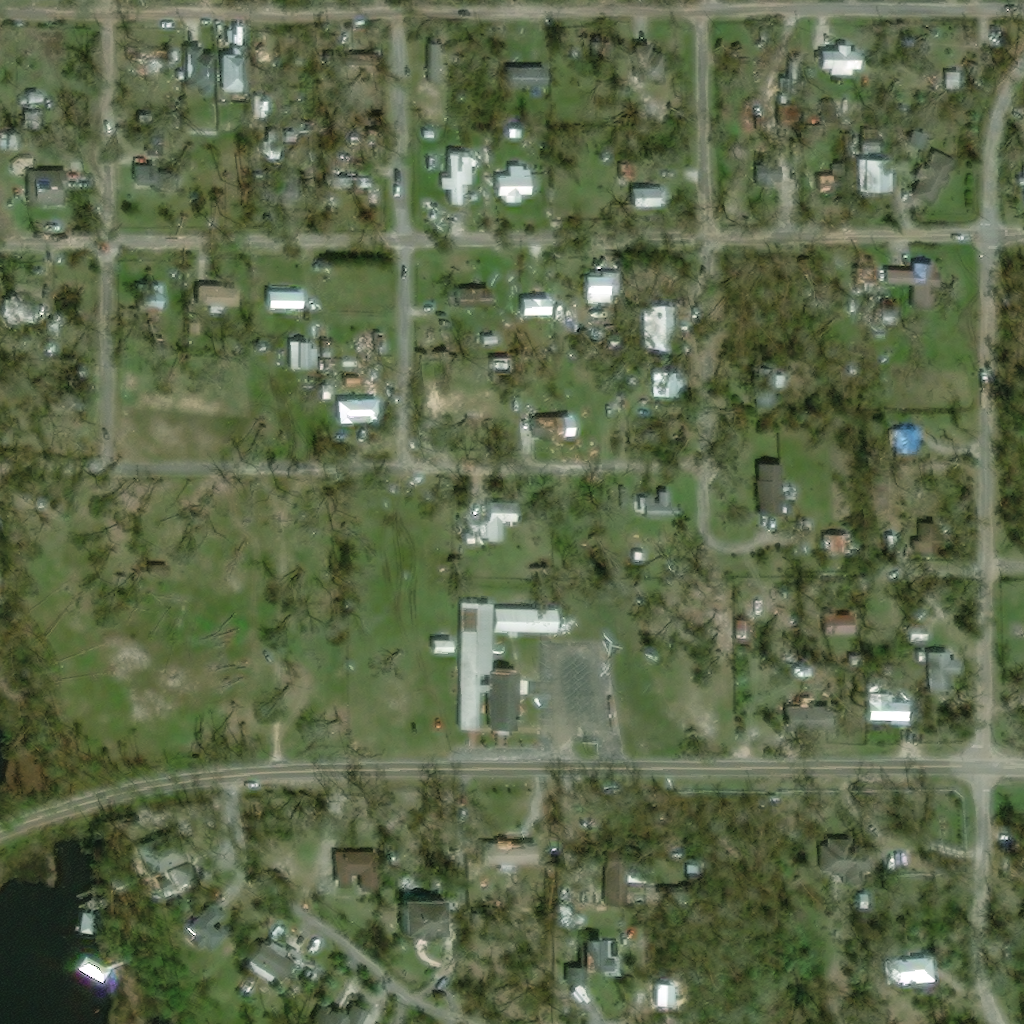destroyed: (853, 257, 880, 292), (357, 335, 389, 356), (138, 50, 177, 61)
major_damage: (522, 408, 573, 442), (783, 697, 833, 729)
minor_damage: (459, 601, 572, 732), (882, 261, 937, 312), (143, 826, 193, 875), (567, 937, 609, 987), (479, 837, 536, 871), (0, 284, 46, 326), (470, 500, 518, 540), (880, 955, 936, 987), (29, 168, 65, 207), (185, 45, 213, 89), (137, 126, 170, 153), (857, 158, 881, 192), (823, 533, 851, 553)
no_damage: (244, 915, 308, 991), (602, 846, 661, 908), (180, 902, 230, 957), (908, 150, 954, 208), (437, 148, 478, 205), (335, 849, 396, 887), (759, 461, 797, 517), (816, 843, 872, 876), (863, 680, 908, 721), (308, 1001, 386, 1023), (398, 899, 442, 936), (921, 649, 953, 697), (750, 364, 784, 409), (315, 166, 374, 191), (495, 164, 531, 203), (821, 45, 861, 77), (335, 398, 380, 424), (75, 953, 111, 984), (634, 490, 671, 517), (505, 65, 550, 87), (635, 44, 658, 85), (455, 286, 494, 310), (628, 185, 667, 208), (651, 370, 683, 398), (585, 274, 614, 304), (262, 290, 303, 310), (290, 340, 318, 369), (134, 163, 172, 184), (212, 844, 236, 876), (201, 290, 239, 310), (519, 297, 552, 315), (427, 42, 441, 80), (137, 284, 162, 305), (635, 933, 653, 962), (760, 157, 781, 181), (77, 910, 96, 935), (16, 89, 41, 104), (432, 639, 455, 652), (861, 140, 881, 154), (149, 564, 167, 577), (425, 153, 436, 171), (461, 532, 476, 545), (423, 128, 439, 140), (794, 666, 813, 676), (422, 201, 438, 211), (320, 385, 331, 399), (909, 632, 927, 640), (321, 323, 330, 338), (605, 158, 615, 170), (321, 358, 334, 366), (253, 342, 264, 351), (343, 360, 353, 369)
